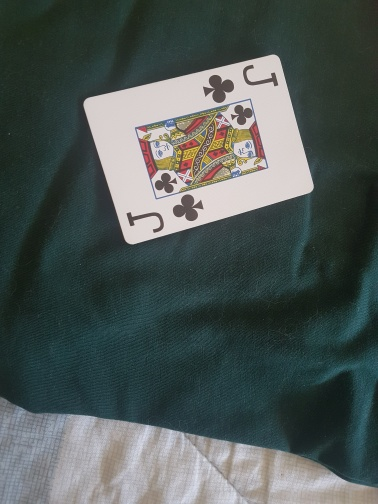jack: (82, 52, 315, 243)
